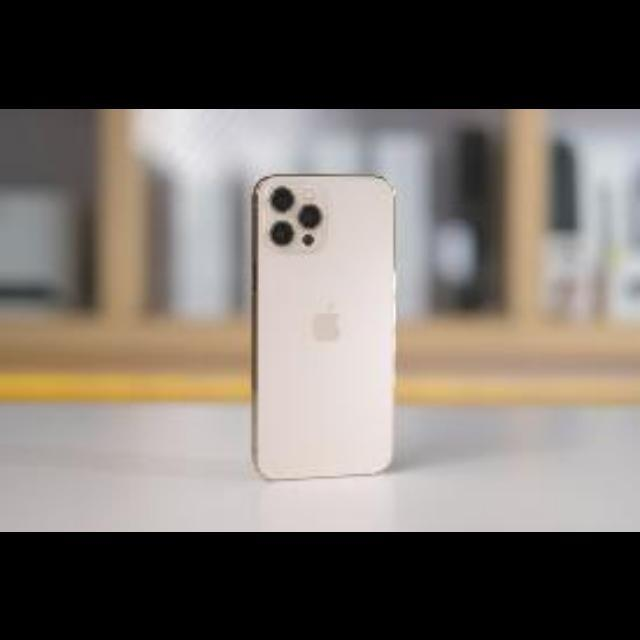PhoneUse: (252, 174, 400, 481)
